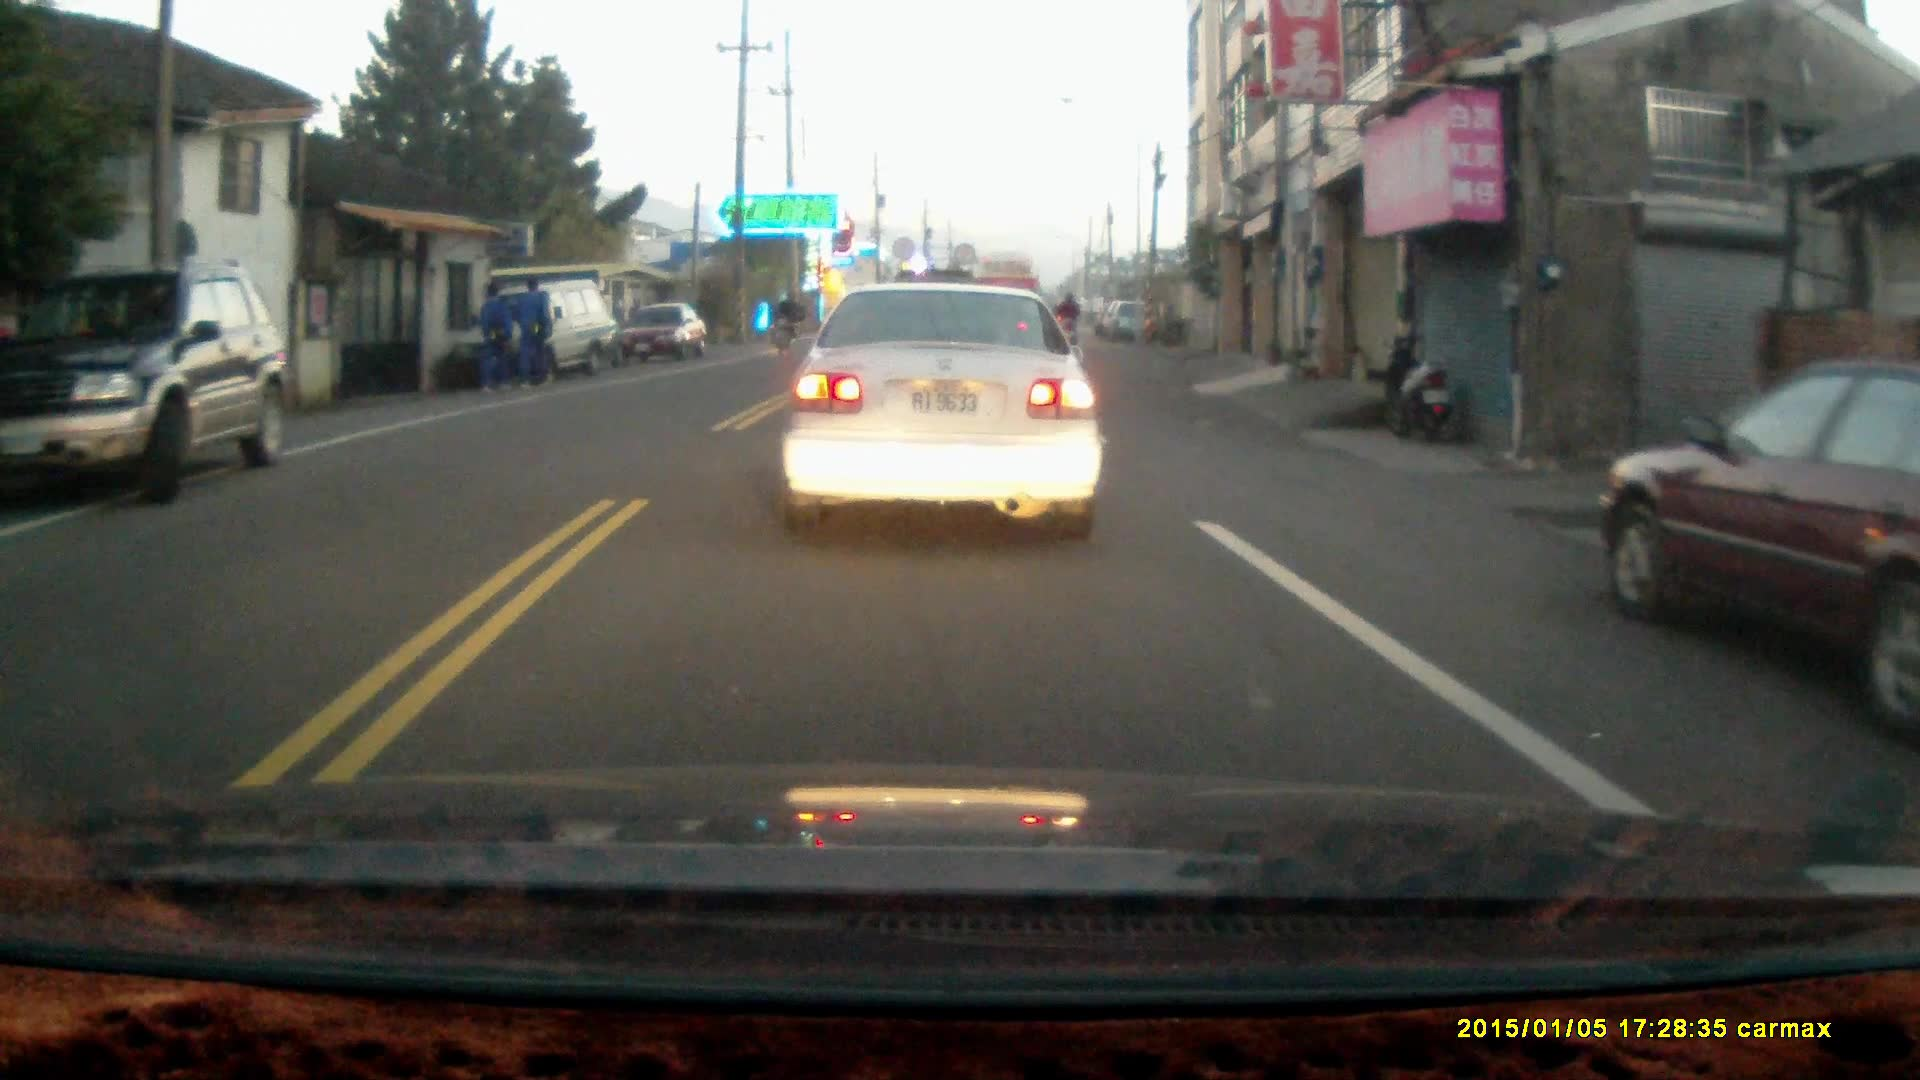pedestrian: (476, 277, 515, 397), (515, 274, 551, 393)
rider: (769, 288, 804, 349)
vehicle: (1607, 358, 1920, 748), (781, 276, 1108, 538), (4, 264, 293, 504), (484, 277, 625, 375), (613, 303, 711, 363)
